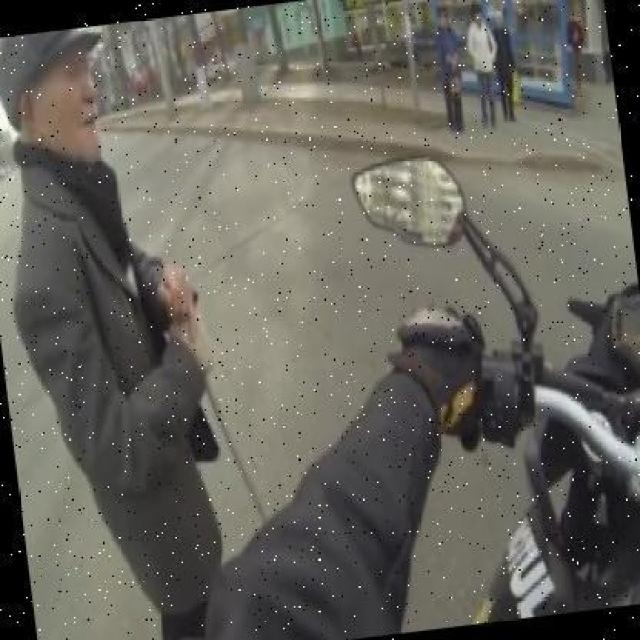Person: (0, 11, 289, 638), (462, 0, 506, 131), (431, 3, 469, 132), (488, 5, 524, 130)
